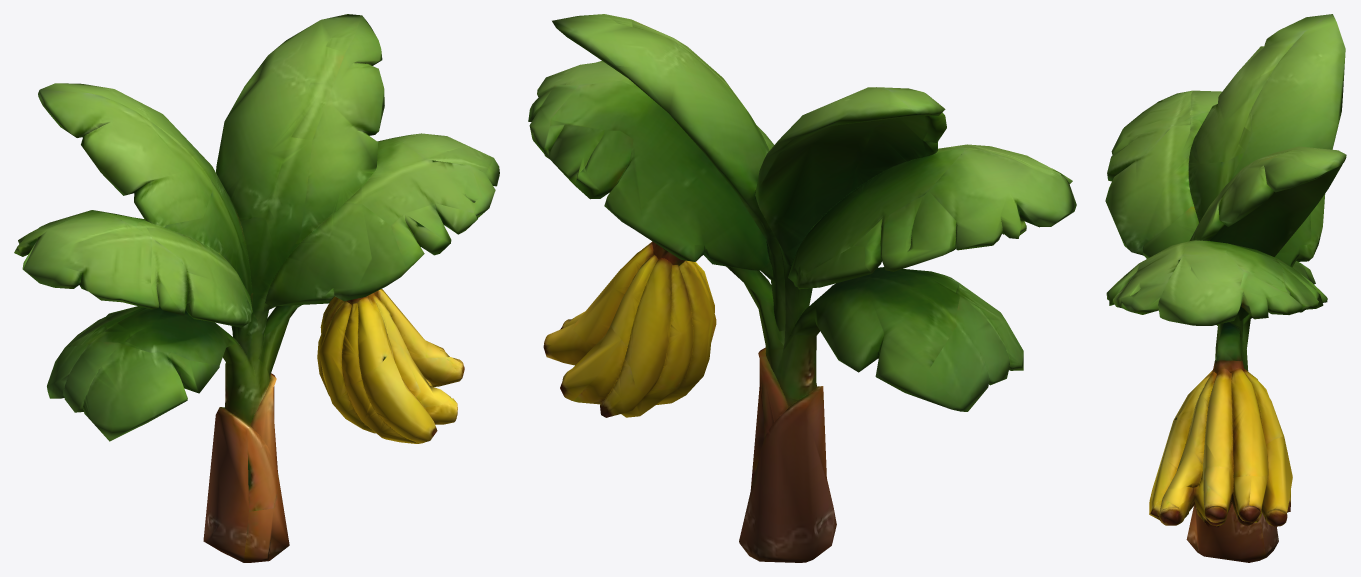
Rendered from banana_pbr.glb.
3 renders of one model, left to right at view 1: azimuth 30°, elevation 25°; view 2: azimuth 150°, elevation 25°; view 3: azimuth 270°, elevation 25°, orthographic. The views are drawn at different scales.
Visible parts, largest first — view 1: model; view 2: model; view 3: model.
Boxes of the visible parts, x1,y1,x2,y2 form: model: (14,14,499,562); model: (528,14,1076,562); model: (1105,14,1346,562).
Bounding box in the file's own units: 1.85 × 1.76 × 0.8325.
1 material, 1 textured.
